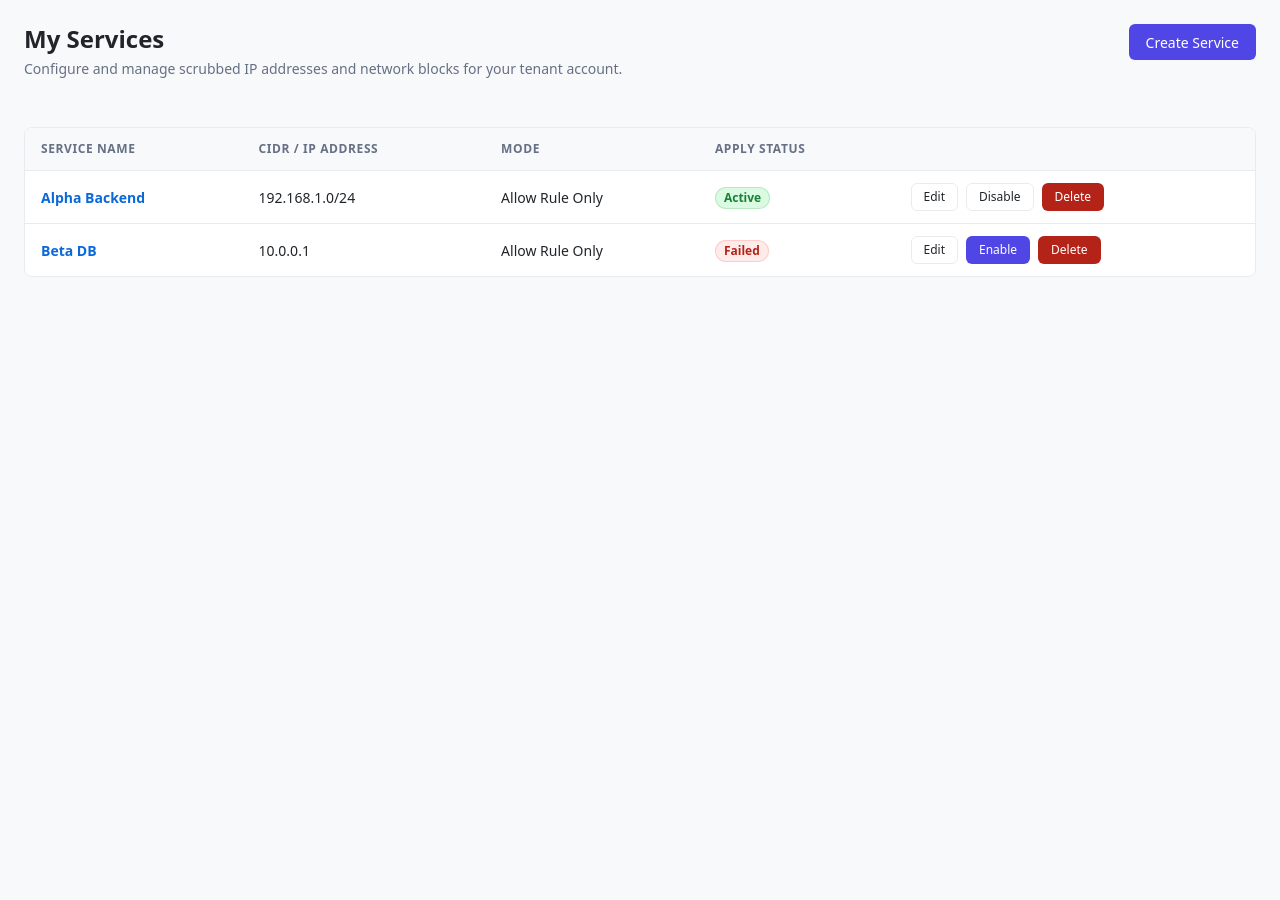
Test: ServicesPage & ServiceForm › surfaces inline 422 API errors appropriately
Click the button "Create Service" at (1192, 42), box [1129,24,1256,60]
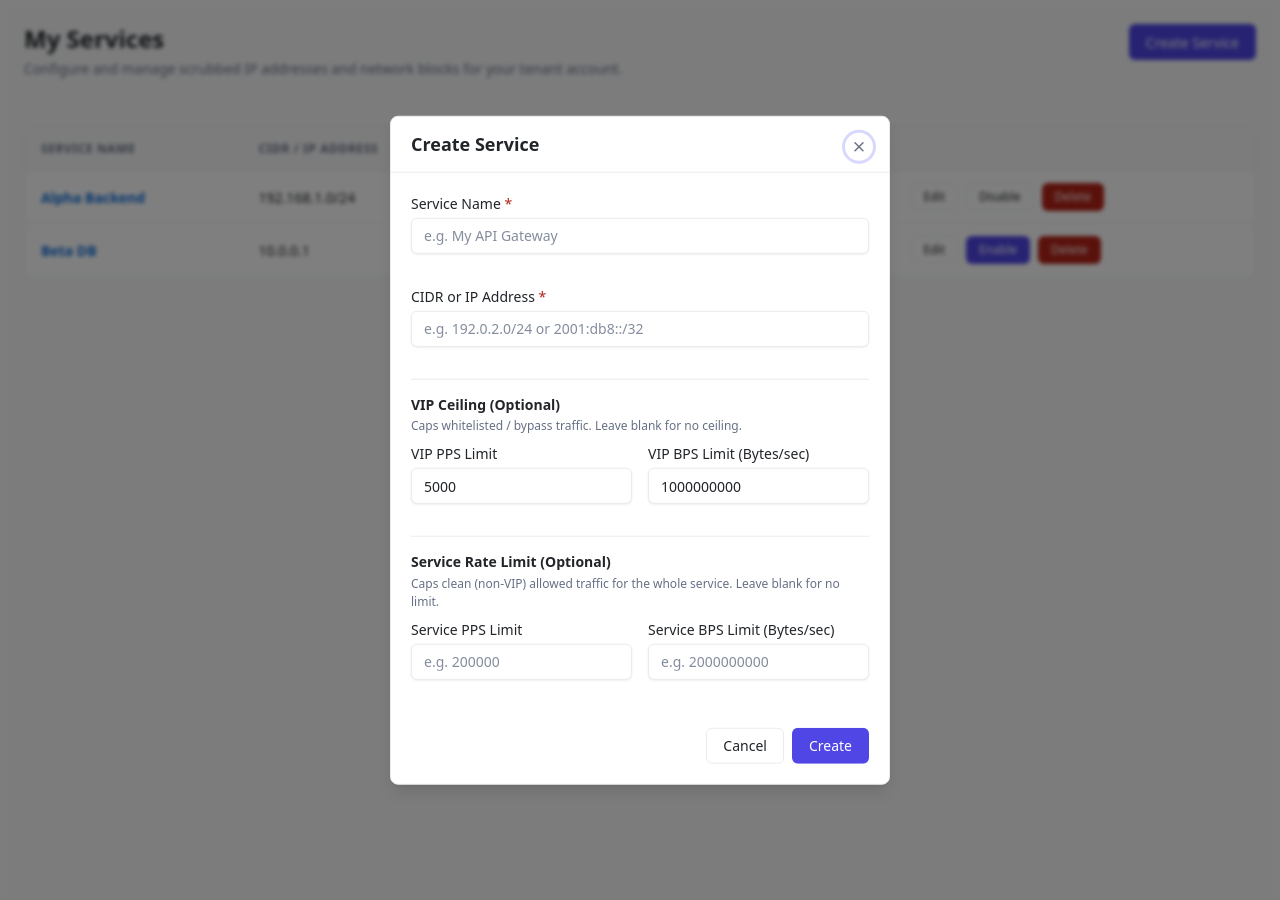
Type "a" into the field labelled "Service Name *" at (640, 235), box [411,217,869,253]
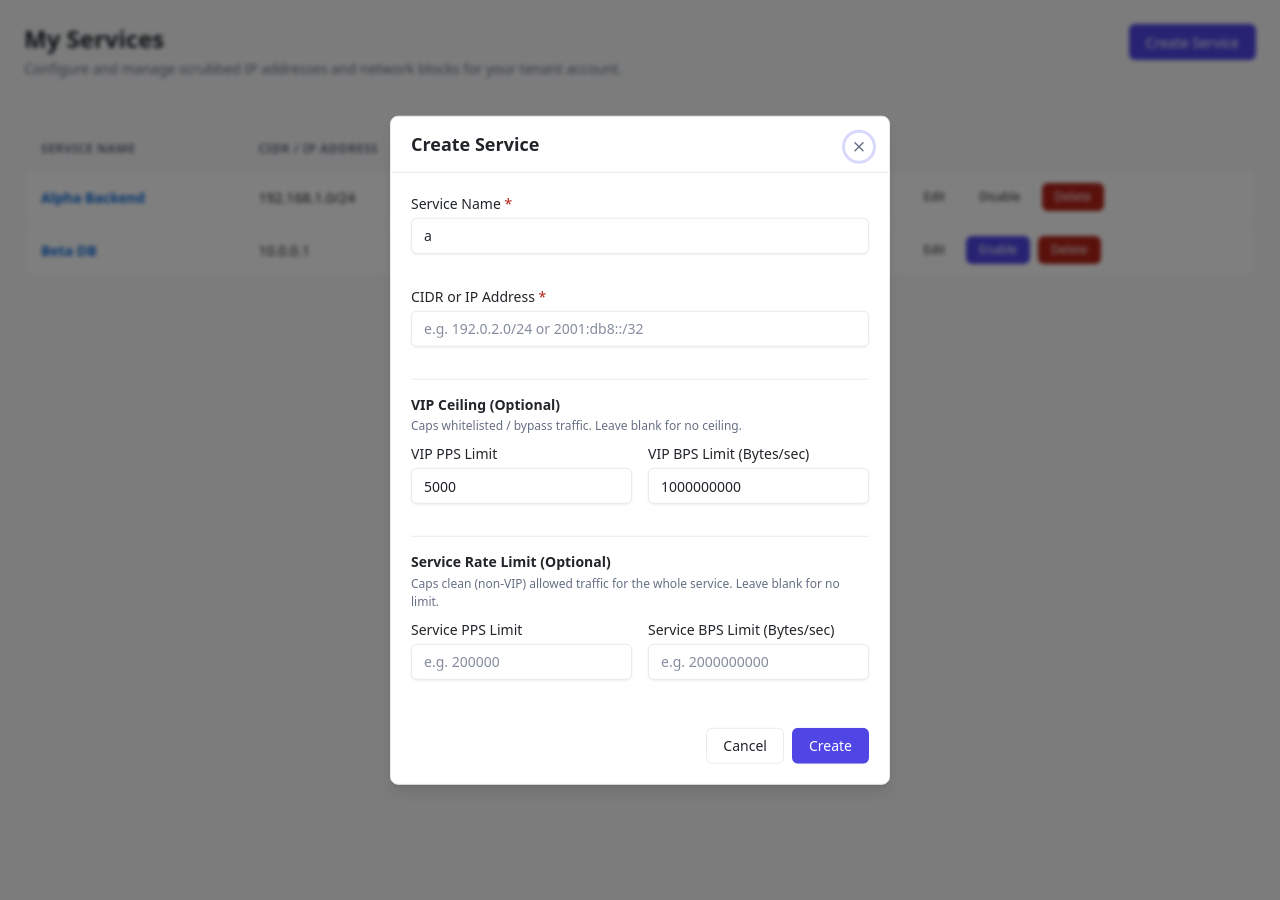
Type "10.0.0.0/8" into the field labelled "CIDR or IP Address *" at (640, 328), box [411,310,869,346]
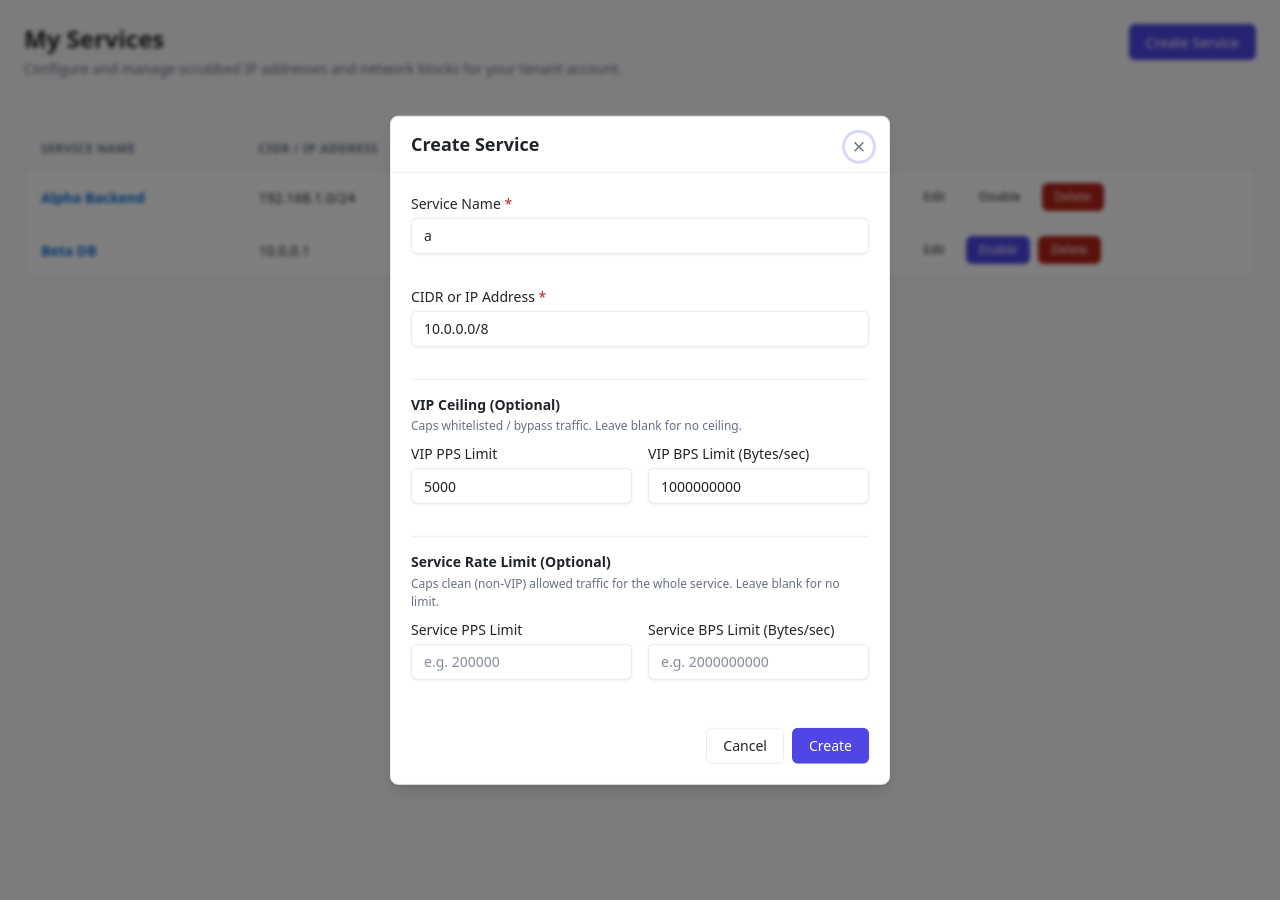
Click the button "Create" at (830, 745), box [792,727,869,763]
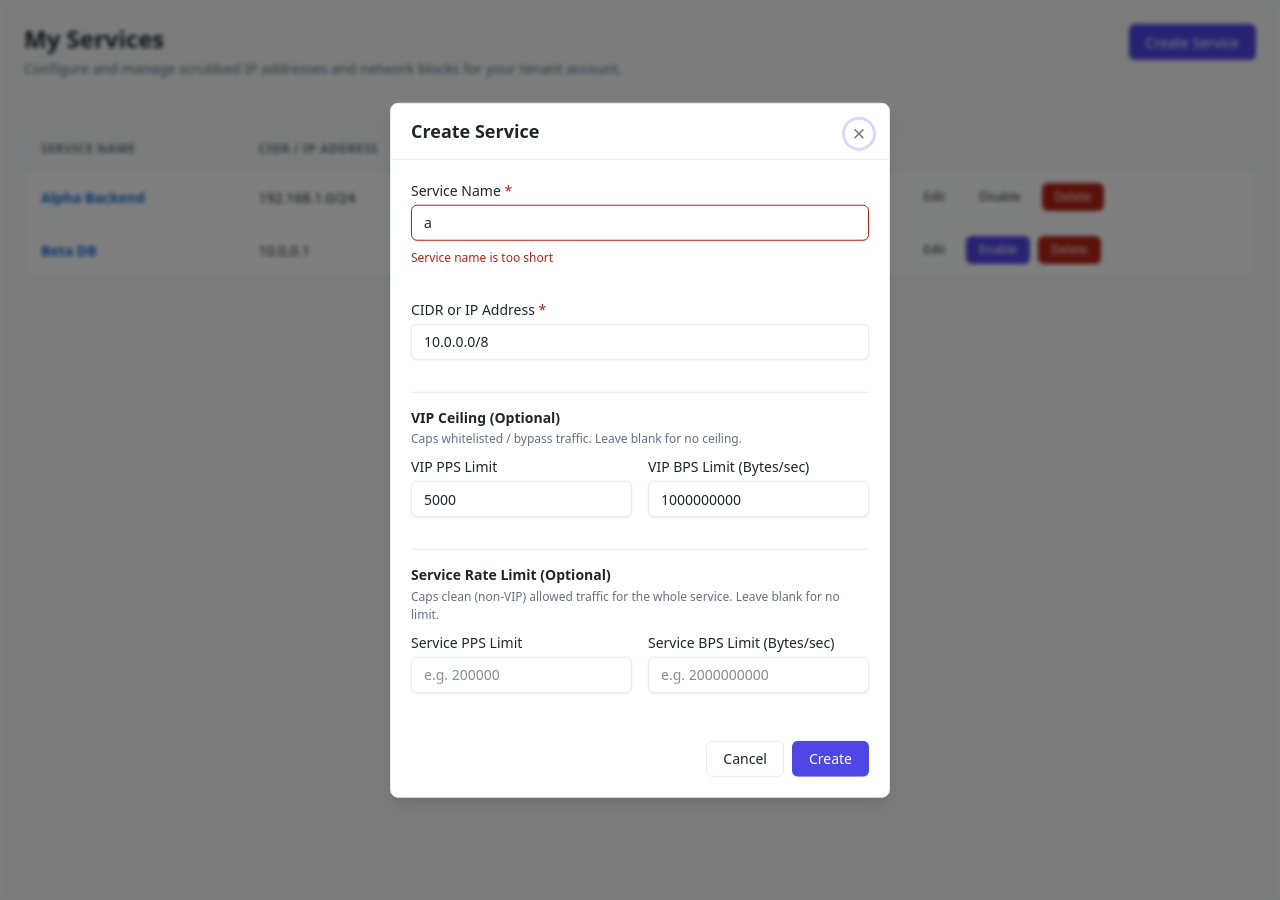
Result: the text "Service name is too short" is shown at [411,248,553,265]
